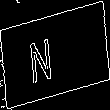N_N: (42, 27, 68, 83)
